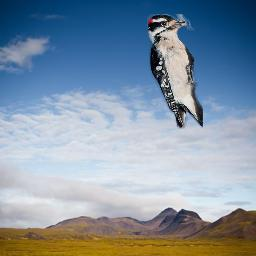Woodpecker: (147, 14, 203, 129)
